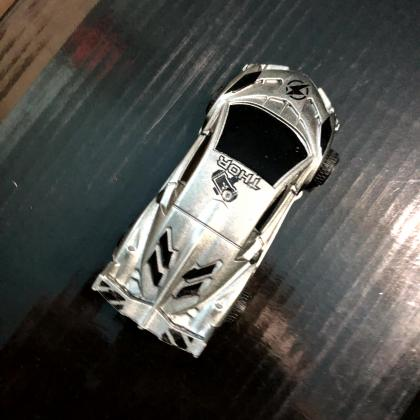Car: (92, 63, 340, 359)
